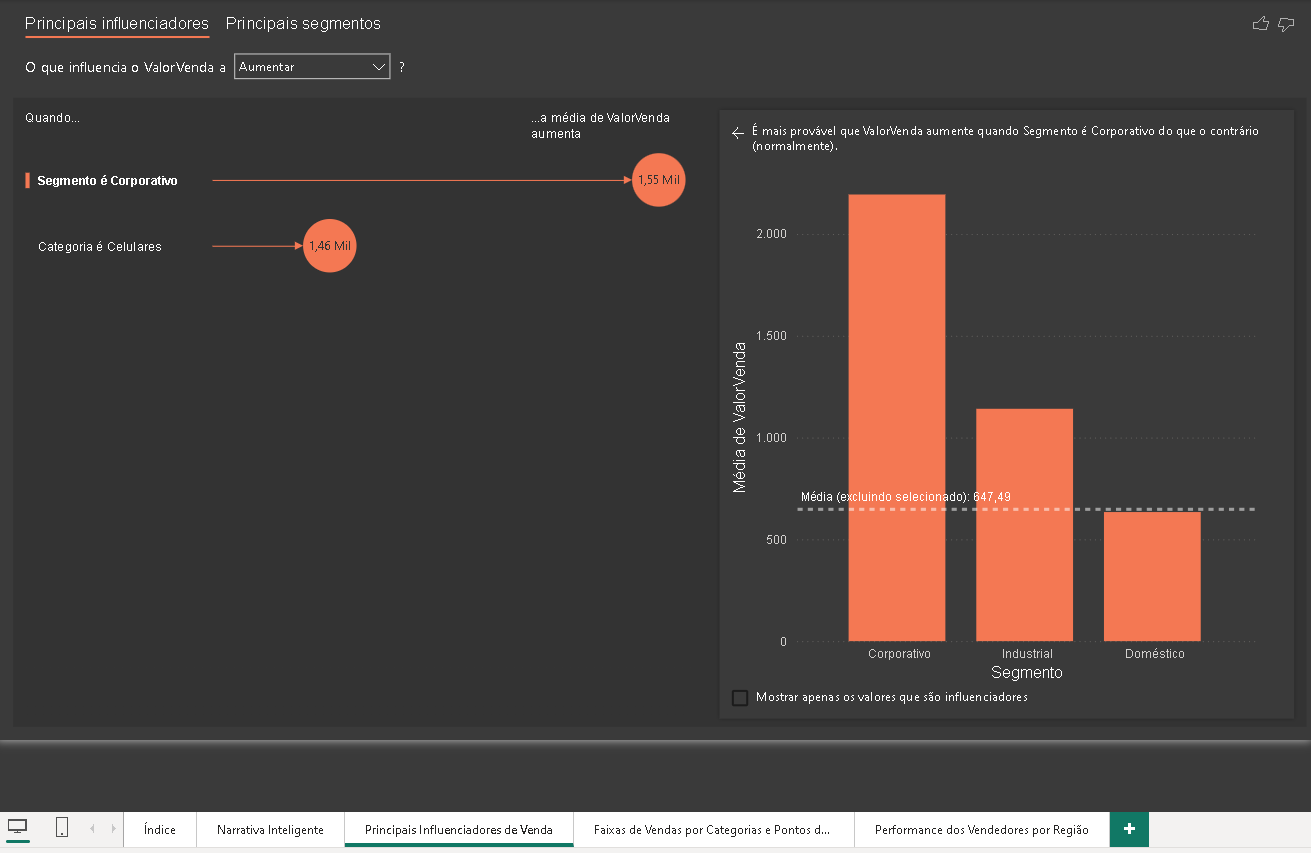

What the dashboard file says about the page in this screenshot:
{"tool":"powerbi","page":{"name":"Principais Influenciadores de Venda","canvas":[1280,720],"ordinal":2},"visuals":[{"type":"keyDriversVisual","fields":{"Target":["Vendas.ValorVenda"],"ExplainBy":["Vendas.Segmento","Vendas.Categoria"]},"box":[11.7,0,1268.3,712],"z":0}]}

Visuals, with their boxes on the page's 1280x720 design canvas (x1, y1, x2, y2). These are canvas units, not pixel positions in the 1311x853 screenshot, which may show the page scaled, cropped or inside an application window:
keyDriversVisual - Vendas.ValorVenda x Vendas.Segmento: bbox=[12, 0, 1280, 712]
